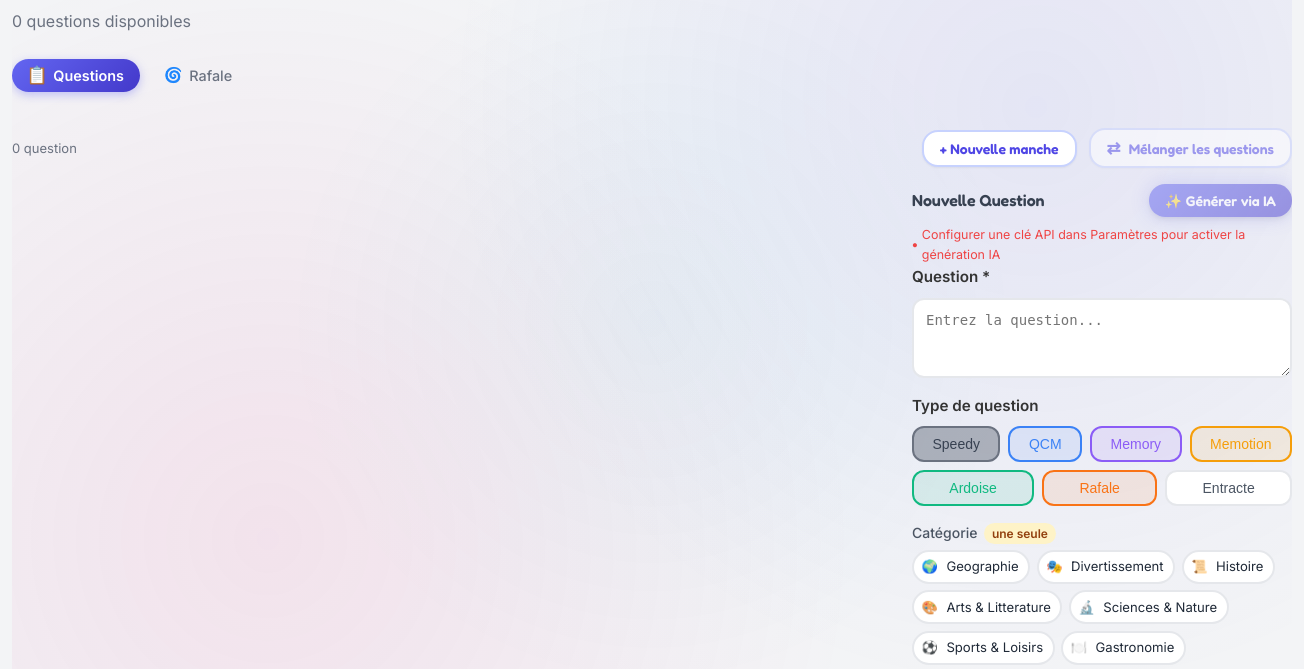
Test: Éditeur — le sous-éditeur QCM d'une carte MEMOTION n'a plus d'indices (#279) › NR hôte — question QCM classique : la case « Activer les indices progressifs » est toujours là
What coordinates should you click on to do the following:
click the button "QCM"
I would click on:
 (1045, 444)
Its box is top-left (1008, 426), bottom-right (1082, 462).
(page scrolled)
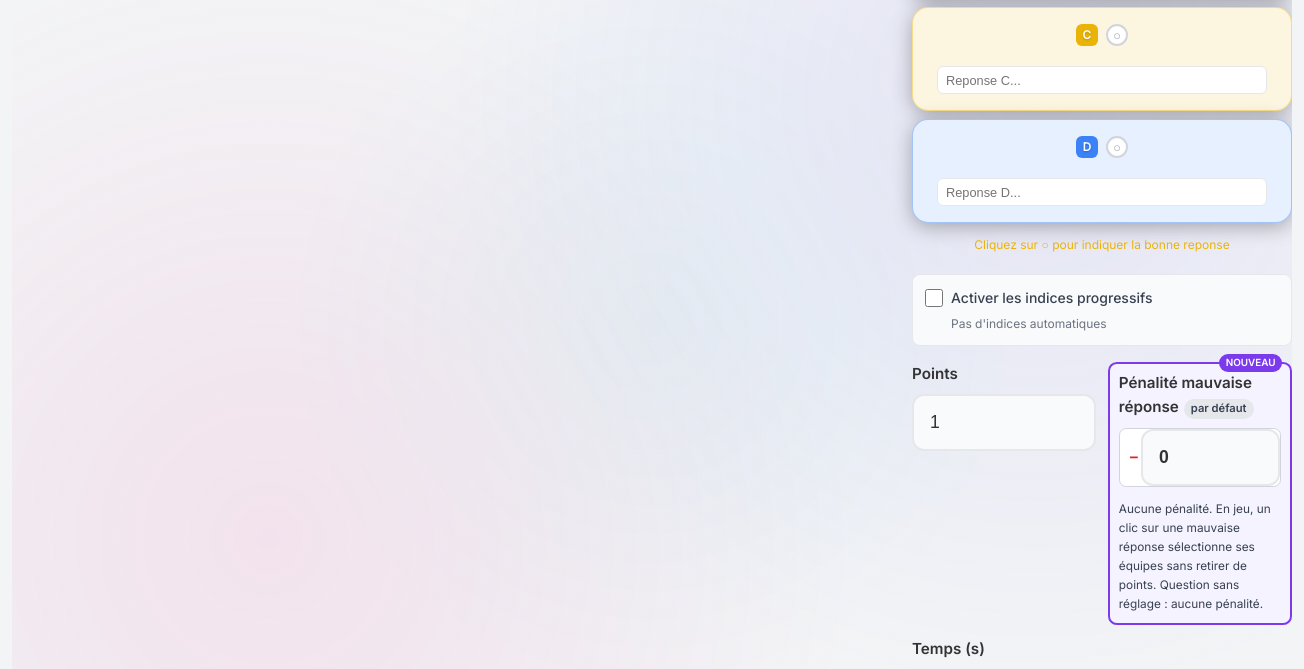
Expected: the checkbox labelled "Activer les indices progressifs" is shown, top-left (925, 289), bottom-right (943, 307)
Expected: the text "Pas d'indices automatiques" is shown, top-left (951, 316), bottom-right (1107, 331)
